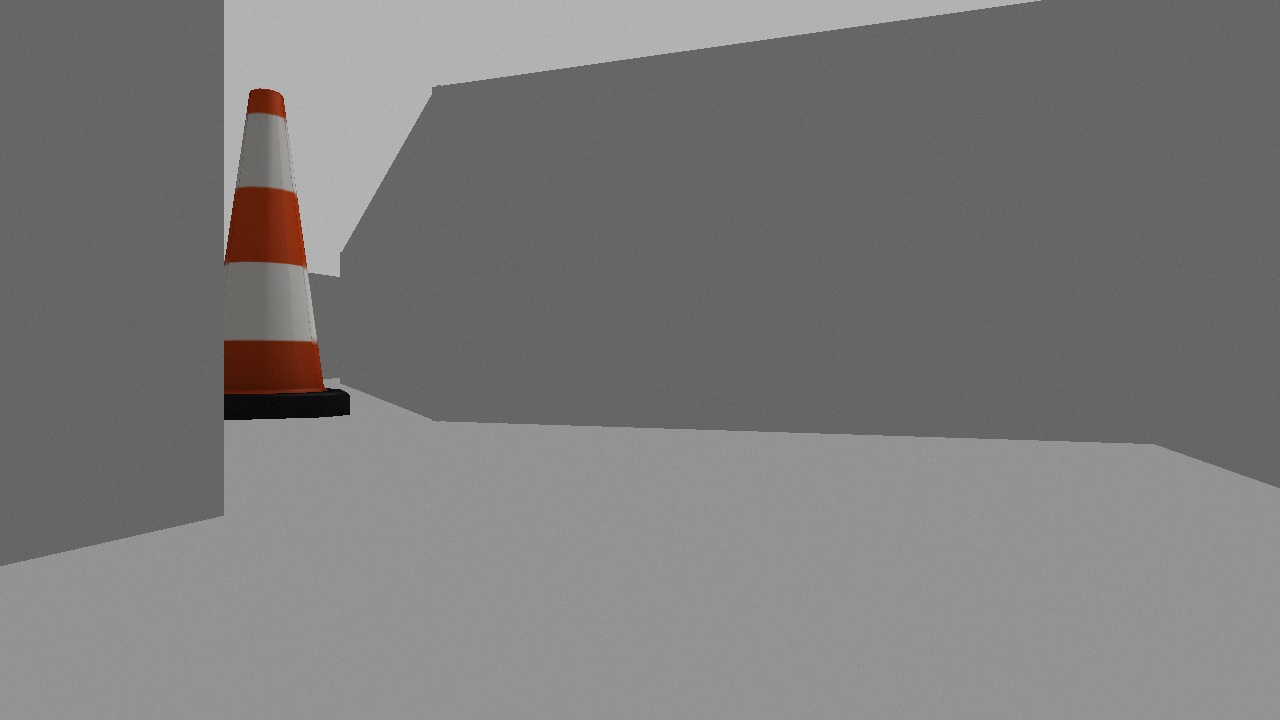barricade: (198, 76, 349, 421)
